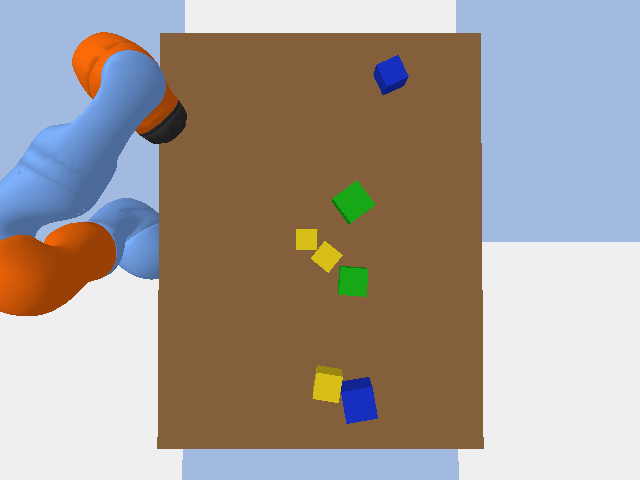blue_obj: (341, 377, 377, 423), (373, 55, 408, 94)
green_obj: (332, 180, 375, 223), (338, 266, 368, 296)
yellow_obj: (312, 365, 342, 402), (311, 241, 342, 272), (296, 229, 317, 249)
